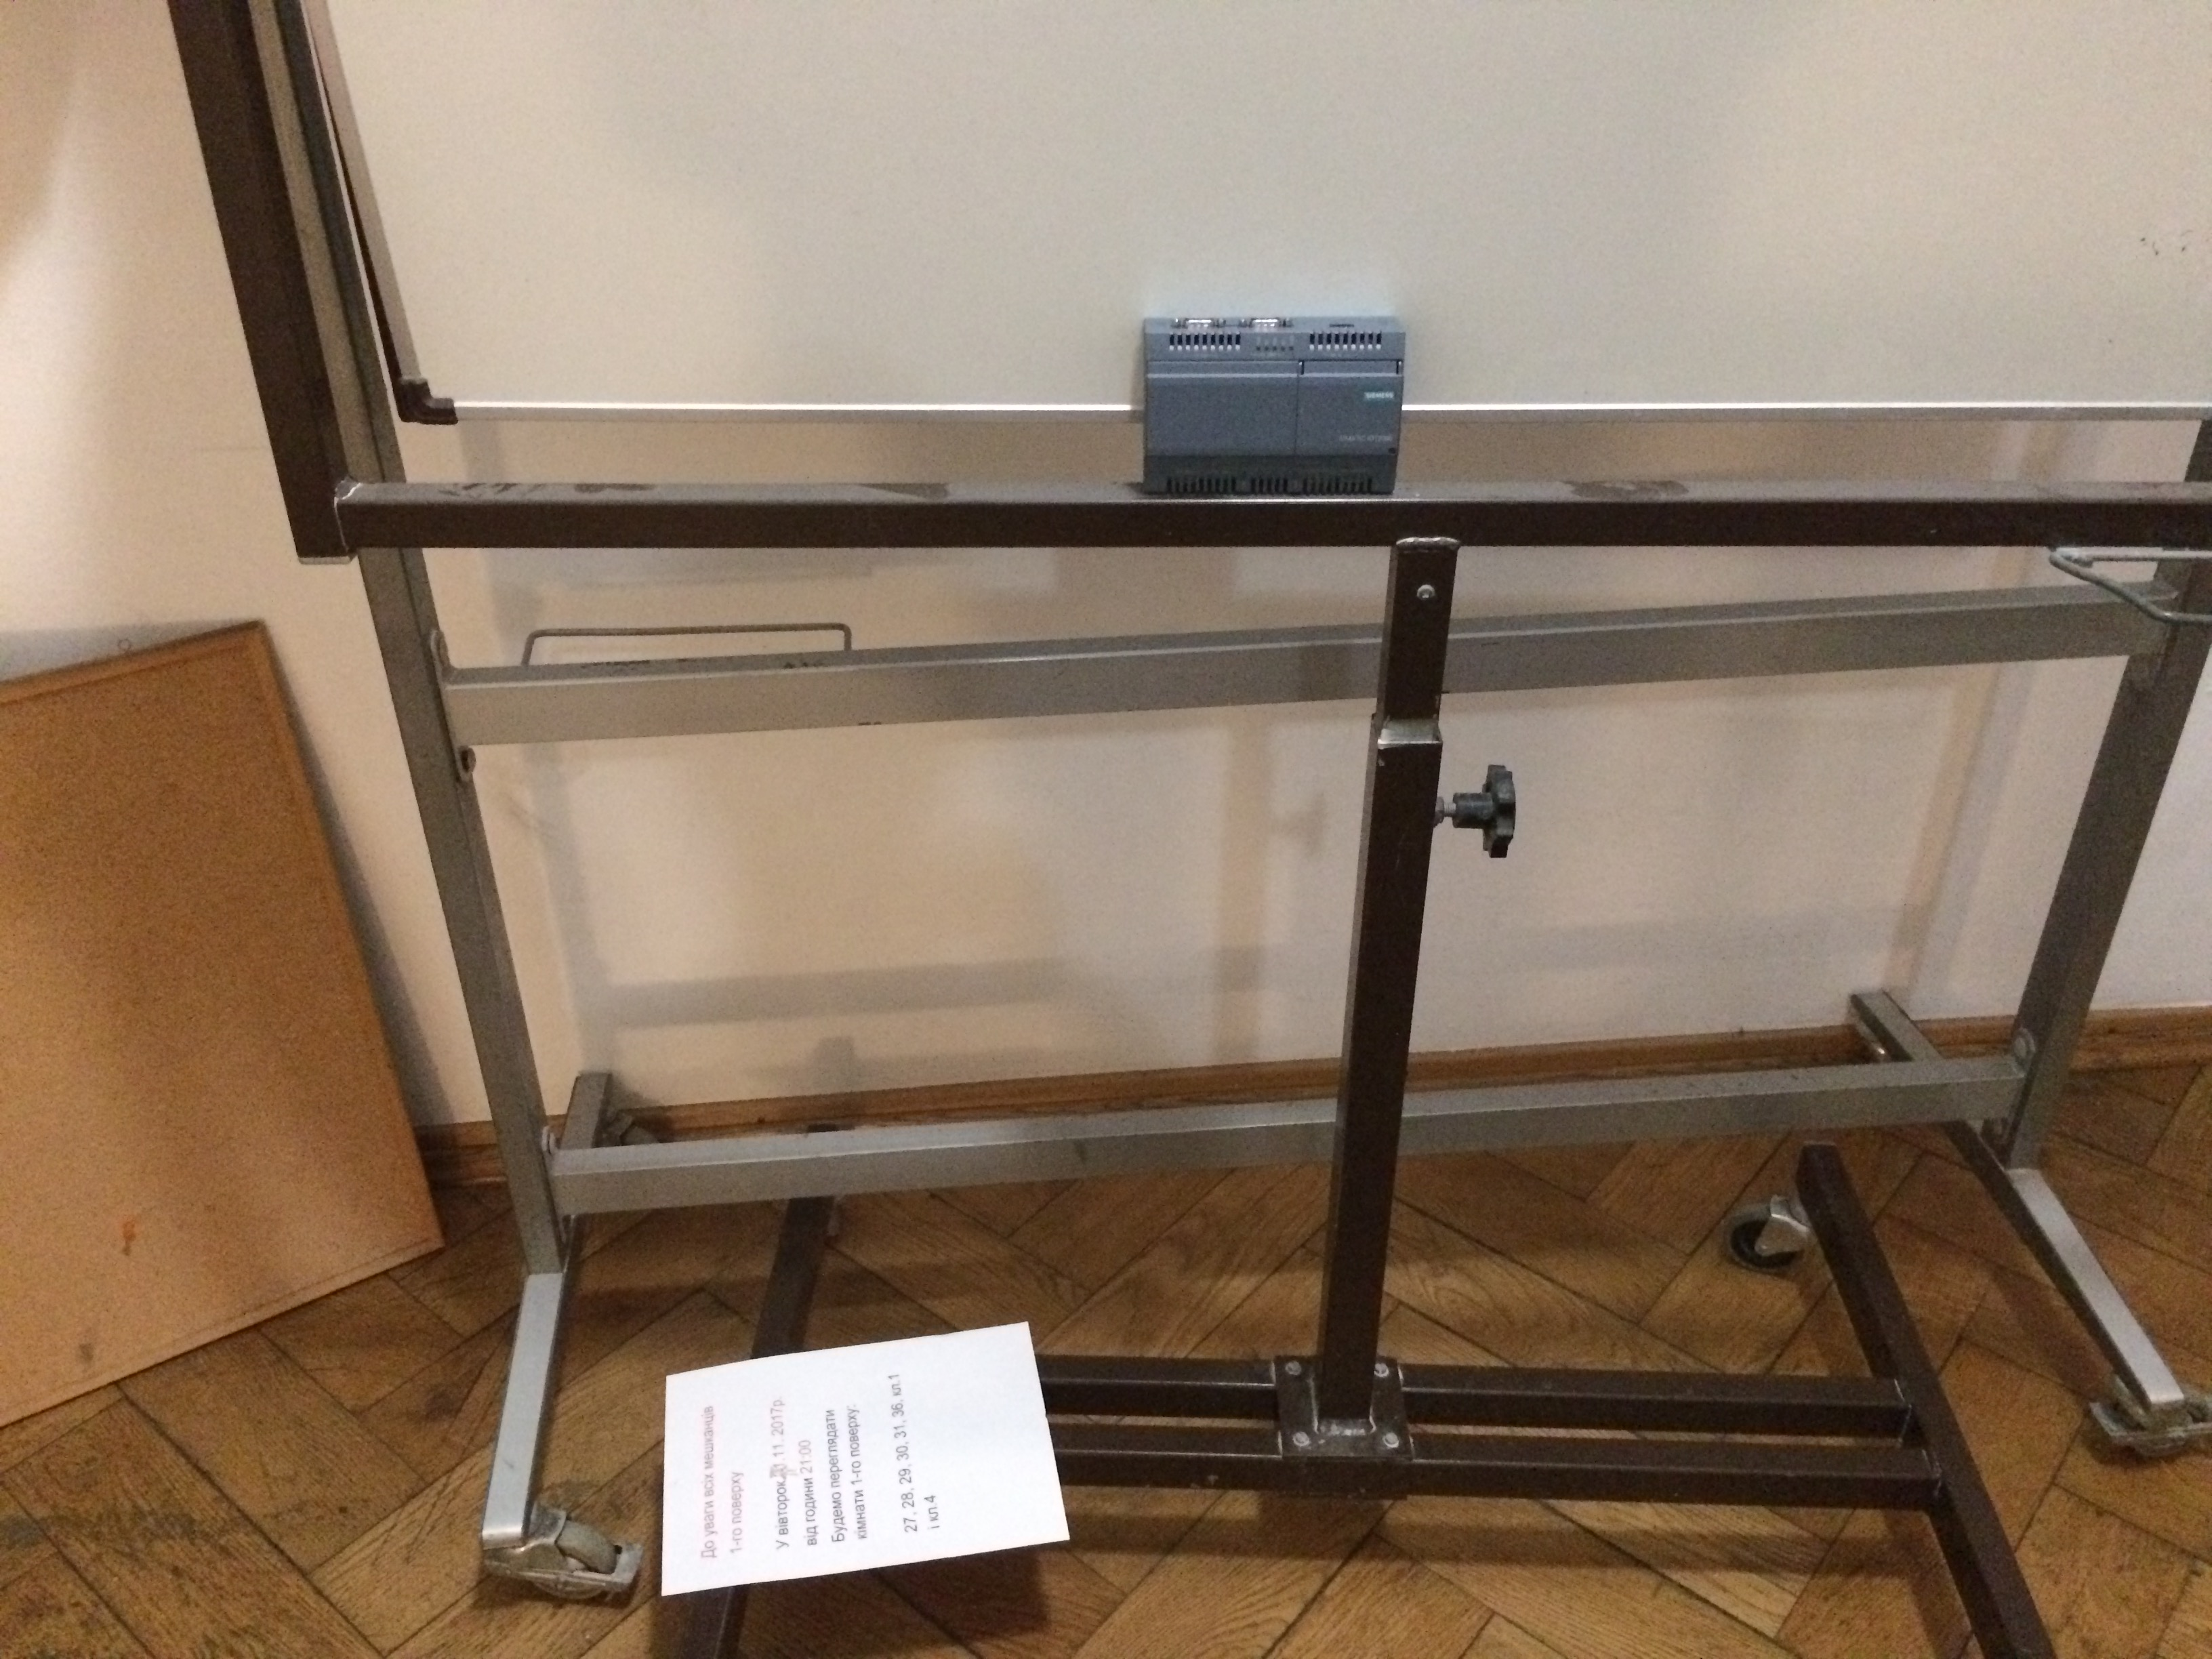iot2000: (1139, 310, 1411, 497)
